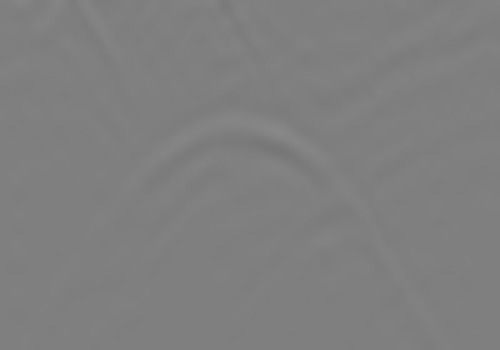hyperbola: (62, 106, 427, 332)
